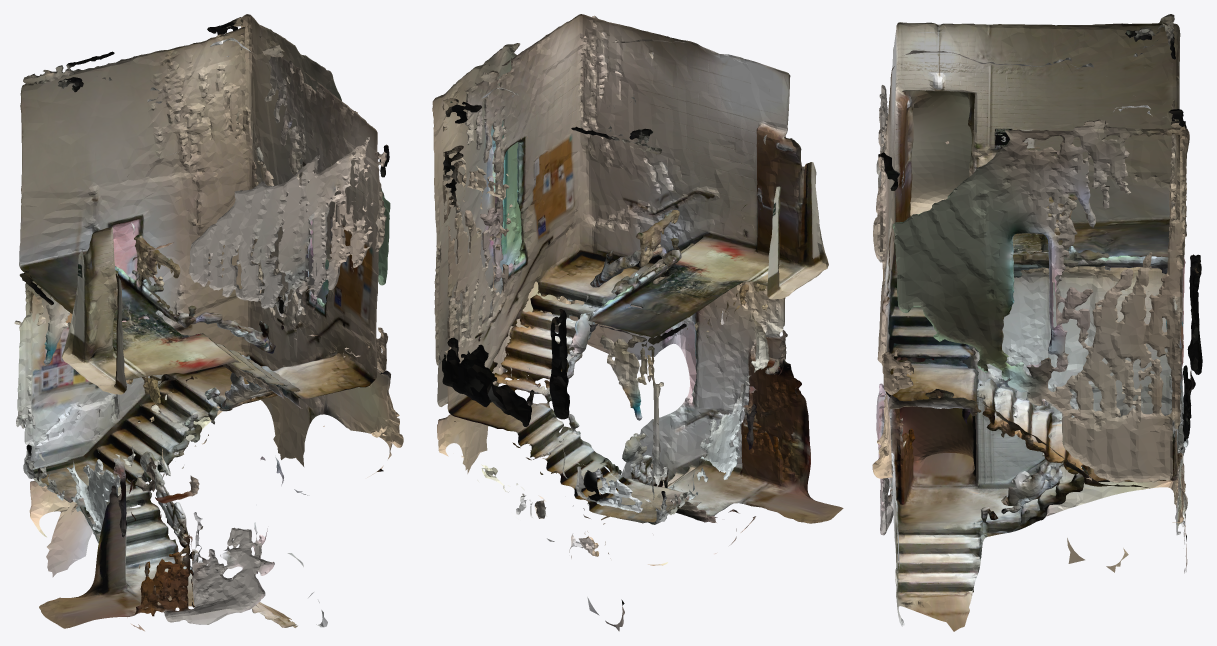
Rendered from hayes_stairs.glb.
3 views of the same model, side by side, from view 1: azimuth 30°, elevation 25°; view 2: azimuth 150°, elevation 25°; view 3: azimuth 270°, elevation 25° (orthographic). The views are drawn at different scales.
Size of the model in its own units: 5.43 by 8.42 by 4.62.
Materials: 2 (2 with a texture image).
